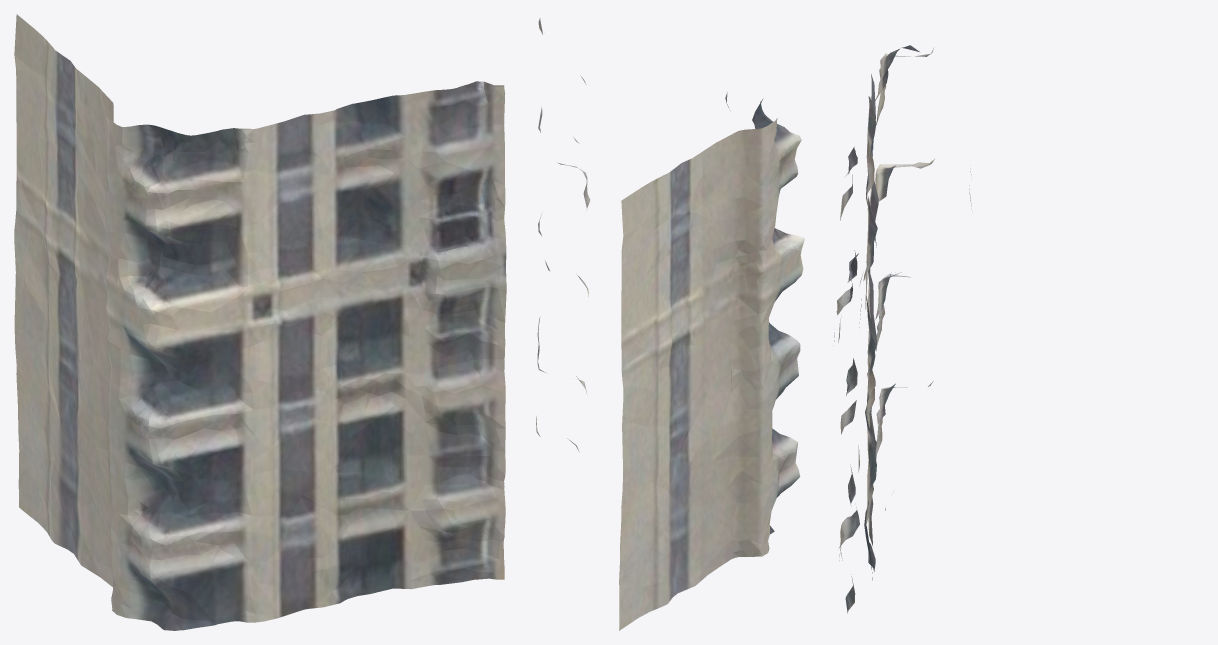
The model's file is Tile__003__001_L22_00031100.glb.
3 views of the same model, side by side, from view 1: azimuth 30°, elevation 25°; view 2: azimuth 150°, elevation 25°; view 3: azimuth 270°, elevation 25° (orthographic). The views are drawn at different scales.
Parts seen in each view (by area): view 1: root; view 2: root; view 3: root.
Part boxes in pixels (x1,y1,x2,y2): root: [14, 14, 506, 630]; root: [536, 18, 804, 630]; root: [833, 45, 972, 613].
Size of the model in its own units: 6.6 by 9.36 by 6.76.
Materials: 1 (1 with a texture image).
